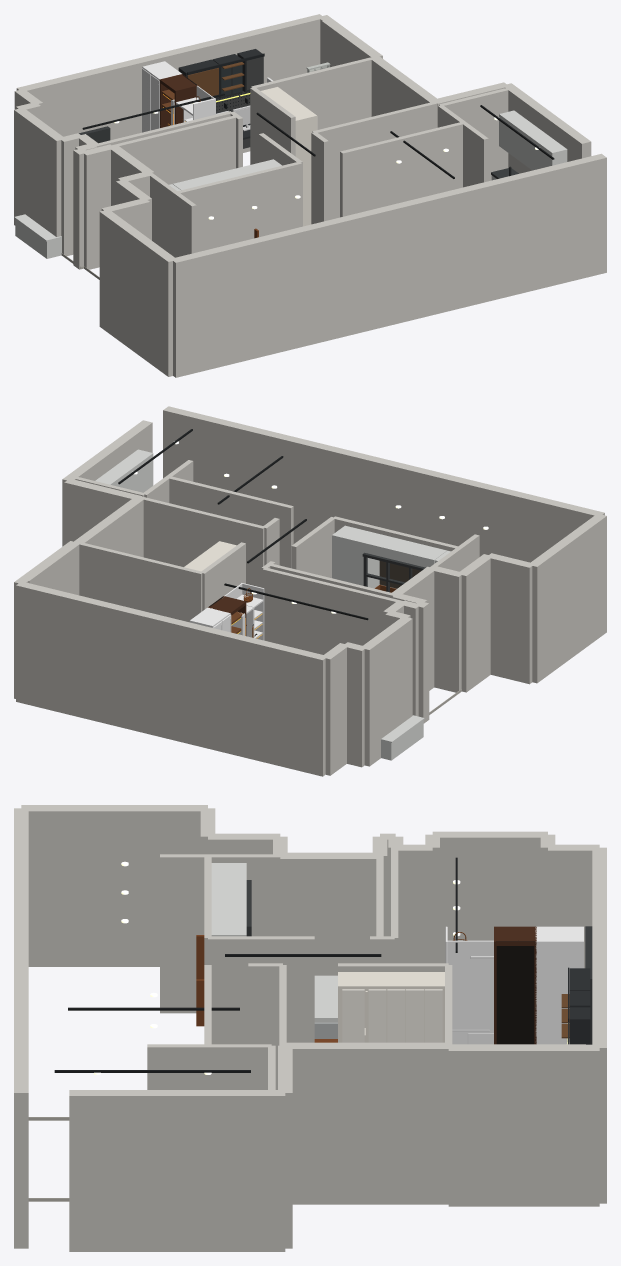
Rendered from house_interior_secondary_bedroom_platform_flush_cabinet_v59.glb.
The picture shows the model from 3 angles, top to bottom: view 1: azimuth 30°, elevation 25°; view 2: azimuth 150°, elevation 25°; view 3: azimuth 270°, elevation 25°; orthographic projection. The views are drawn at different scales.
Parts seen in each view (by area): view 1: WALL_EXT_007, WALL_EXT_001, WALL_EXT_008, WALL_INT_019, WALL_INT_015, WALL_EXT_018, WALL_INT_013, WALL_INT_024, WALL_INT_016, WALL_INT_014, WALL_EXT_013, WALL_EXT_006 (+23 smaller); view 2: WALL_EXT_001, WALL_EXT_007, WALL_EXT_008, WALL_INT_012, WALL_INT_024, WALL_INT_016, WALL_EXT_018, WALL_EXT_009, WALL_INT_019, WALL_EXT_010, WALL_EXT_011, WALL_EXT_020 (+25 smaller); view 3: WALL_EXT_006, WALL_EXT_004, WALL_EXT_002, WALL_EXT_008, WALL_EXT_018, WALL_EXT_012, WALL_INT_014, WALL_INT_005, WALL_EXT_007, WALL_INT_017, FURN_MASTER_WARDROBE_13_WARDROBE_LEFT_CARCASS, WALL_EXT_001 (+34 smaller).
Boxes of the visible parts, <box> form: WALL_EXT_007: <box>171,153,606,377</box>; WALL_EXT_001: <box>16,14,324,152</box>; WALL_EXT_008: <box>99,209,175,376</box>; WALL_INT_019: <box>340,122,463,217</box>; WALL_INT_015: <box>177,162,301,252</box>; WALL_EXT_018: <box>14,109,62,236</box>; WALL_INT_013: <box>87,115,235,184</box>; WALL_INT_024: <box>251,57,375,129</box>; WALL_INT_016: <box>312,102,437,219</box>; WALL_INT_014: <box>111,146,196,257</box>; WALL_EXT_013: <box>81,144,112,269</box>; WALL_EXT_006: <box>504,83,591,173</box>; WALL_EXT_001: <box>16,581,327,776</box>; WALL_EXT_007: <box>163,406,604,562</box>; WALL_EXT_008: <box>528,514,606,683</box>; WALL_INT_012: <box>262,568,403,654</box>; WALL_INT_024: <box>79,543,202,622</box>; WALL_INT_016: <box>140,496,265,587</box>; WALL_EXT_018: <box>360,616,412,766</box>; WALL_EXT_009: <box>486,553,532,684</box>; WALL_INT_019: <box>169,476,293,567</box>; WALL_EXT_010: <box>457,554,490,692</box>; WALL_EXT_011: <box>433,566,461,692</box>; WALL_EXT_020: <box>324,643,348,775</box>; WALL_EXT_006: <box>69,1090,285,1251</box>; WALL_EXT_004: <box>285,1042,448,1204</box>; WALL_EXT_002: <box>448,1044,599,1206</box>; WALL_EXT_008: <box>21,805,207,966</box>; WALL_EXT_018: <box>432,831,547,963</box>; WALL_EXT_012: <box>280,852,379,975</box>; WALL_INT_014: <box>160,854,379,1013</box>; WALL_INT_005: <box>208,936,314,1044</box>; WALL_EXT_007: <box>14,808,28,1248</box>; WALL_INT_017: <box>147,1044,271,1089</box>; FURN_MASTER_WARDROBE_13_WARDROBE_LEFT_CARCASS: <box>535,926,583,1044</box>; WALL_EXT_001: <box>592,847,606,1203</box>.
Size of the model in its own units: 11.22 by 2.83 by 9.66.
